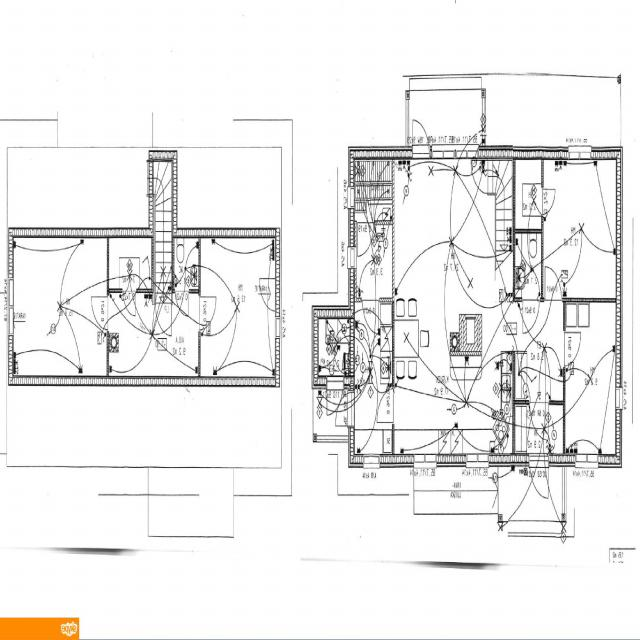door: (530, 454, 549, 505), (332, 392, 355, 426), (530, 400, 548, 442), (327, 375, 343, 421), (413, 114, 429, 159), (357, 220, 374, 258), (545, 265, 562, 302), (376, 388, 394, 422), (523, 298, 539, 336), (563, 333, 582, 365), (363, 297, 379, 335), (198, 297, 216, 329), (92, 297, 109, 329), (176, 290, 189, 318), (542, 189, 556, 213), (124, 289, 136, 317)
